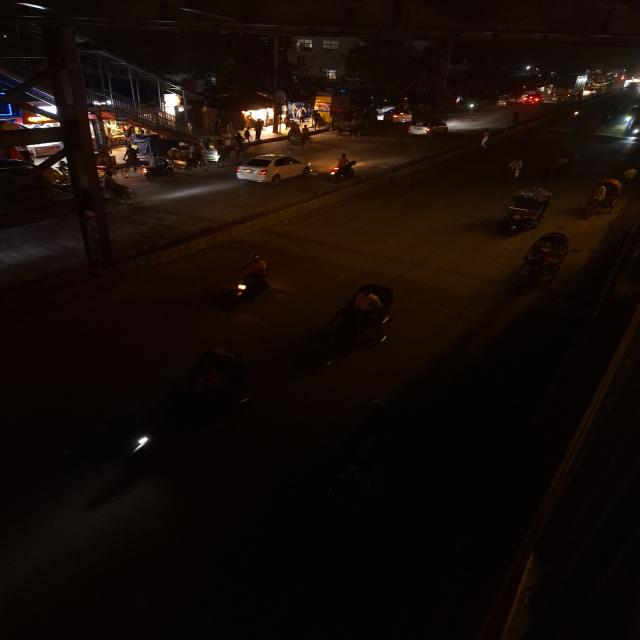car: (232, 152, 317, 187), (405, 117, 451, 139), (522, 93, 546, 106)
motorcycle: (224, 249, 278, 309), (326, 152, 361, 182)
pedestrian: (502, 156, 527, 182), (474, 126, 496, 150)
rickshaw: (315, 278, 406, 370), (515, 229, 574, 287), (499, 185, 555, 233), (582, 177, 624, 221), (96, 179, 138, 209), (544, 146, 580, 178), (164, 146, 202, 172), (197, 138, 232, 166), (139, 157, 179, 181), (284, 125, 312, 148), (494, 94, 512, 108)
truck: (554, 72, 584, 101)
